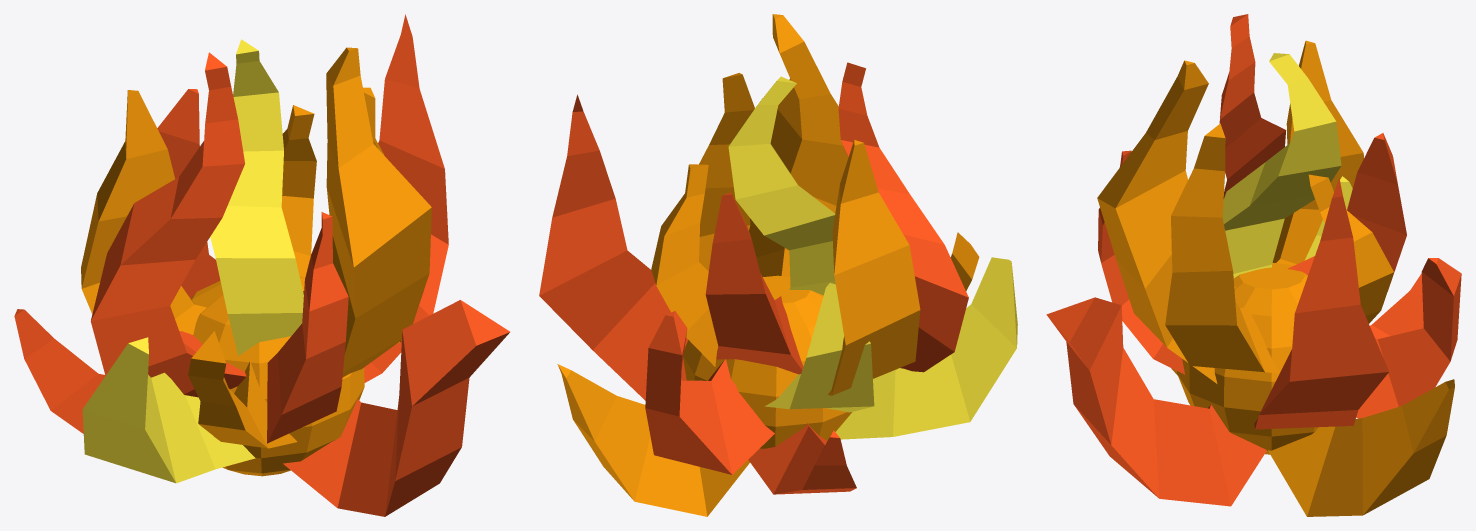
Rendered from 1QpMTUO7P-G.glb.
3 renders of one model, left to right at view 1: azimuth 30°, elevation 25°; view 2: azimuth 150°, elevation 25°; view 3: azimuth 270°, elevation 25°, orthographic. The views are drawn at different scales.
Parts seen in each view (by area): view 1: group167038055, group1374064128, group1602184737; view 2: group1374064128, group167038055, group1602184737; view 3: group1374064128, group167038055, group1602184737.
Part boxes in pixels (x1,y1,x2,y2): group167038055: (14,14,509,516); group1374064128: (81,47,431,476); group1602184737: (82,39,303,483); group1374064128: (557,14,979,516); group167038055: (539,62,968,494); group1602184737: (728,76,1017,439); group1374064128: (1097,40,1454,516); group167038055: (1046,14,1461,506); group1602184737: (1222,53,1352,278).
Bounding box in the file's own units: 0.3449 × 0.3738 × 0.3234.
